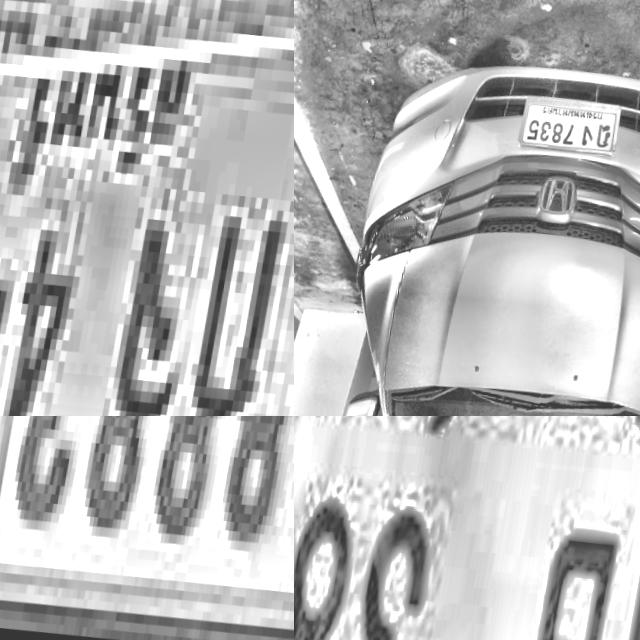license-plate: (0, 0, 294, 416), (294, 416, 640, 640), (0, 416, 294, 640), (518, 91, 627, 163)
